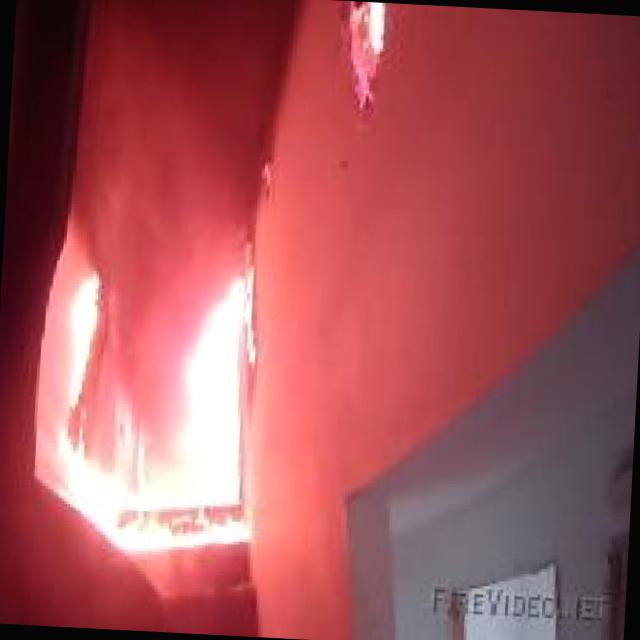fire: (36, 236, 270, 547)
